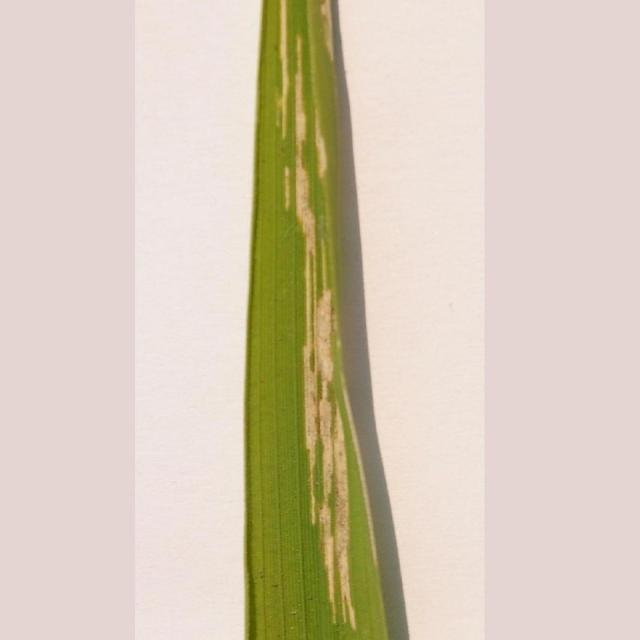leaf blight: (267, 3, 380, 640)
